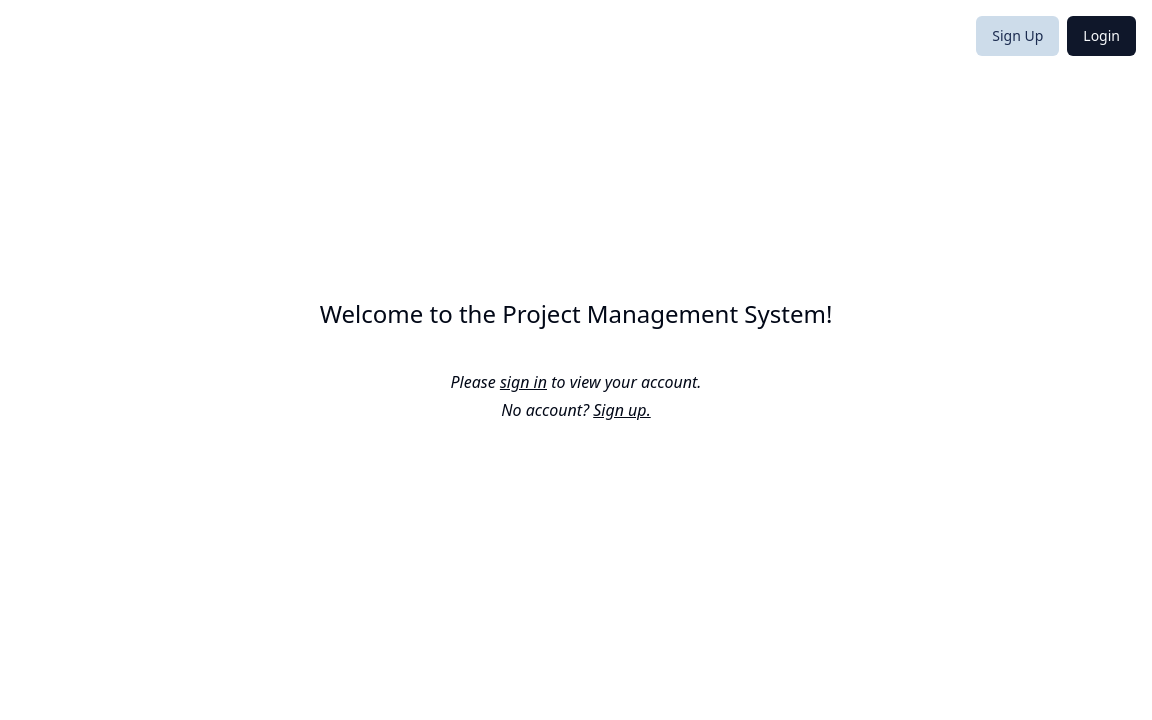
Test: Home Page › should open signup popup
Click the button with aria-label "Sign Up": (1018, 36) [976,16,1059,56]
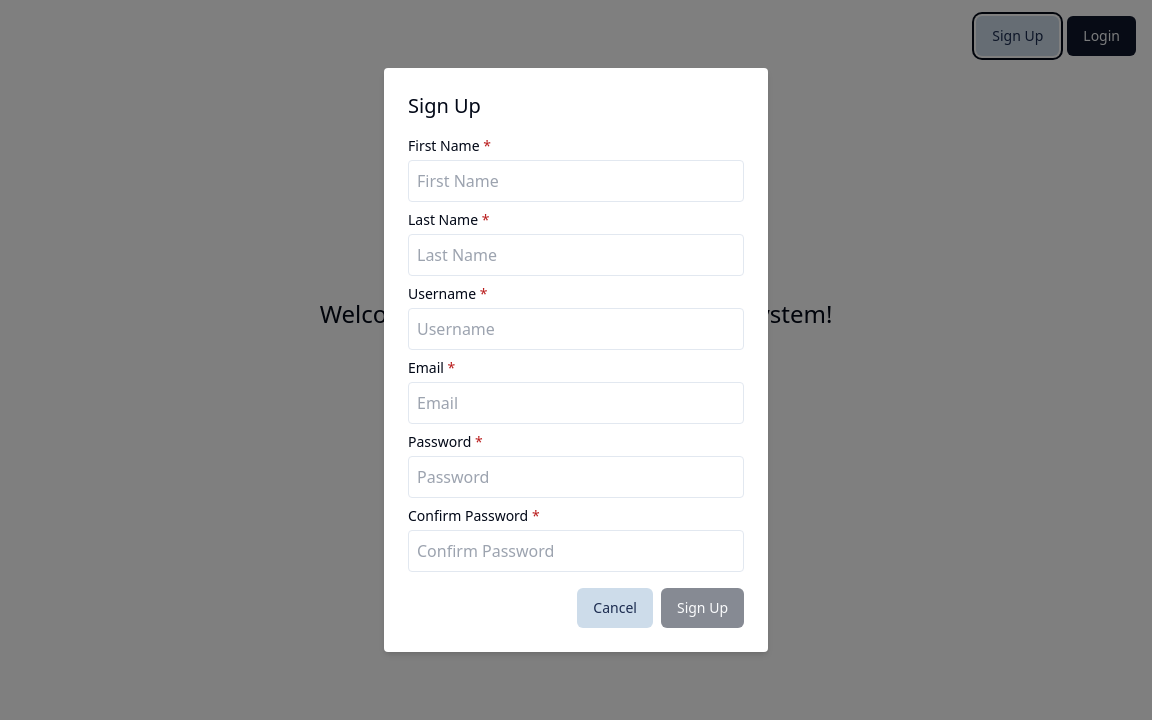
Now the element named "Signup Popup" is shown
